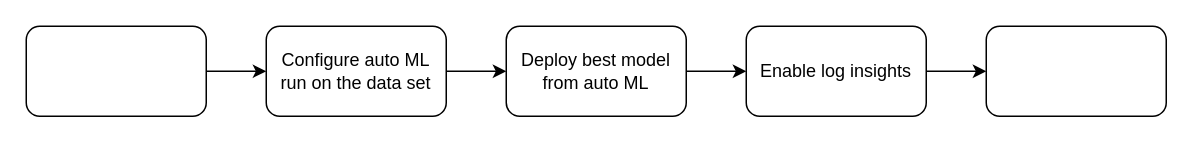
Some shapes in this 1193 by 143 pixel diagram are drawn without their labels. Each missing label, with the centre of its shape:
"Consume Model" belongs at pixel 1075 70.
"Register dataset" belongs at pixel 115 70.
